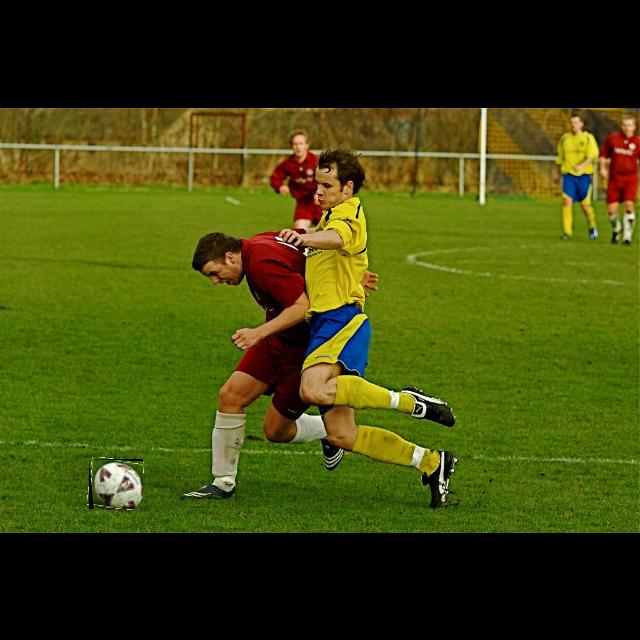Football: (89, 459, 143, 509)
